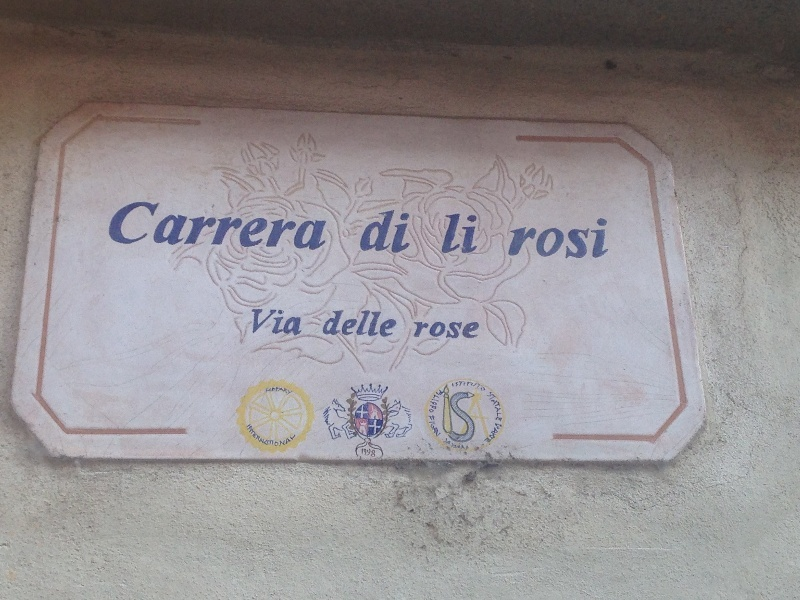text: (449, 384, 464, 443), (465, 384, 480, 443), (113, 201, 128, 252), (129, 201, 144, 252), (145, 201, 160, 252), (161, 201, 176, 252), (177, 201, 192, 252), (193, 201, 208, 252), (209, 201, 224, 252), (225, 201, 240, 252), (241, 201, 256, 252), (257, 201, 272, 252), (273, 201, 288, 252), (289, 201, 304, 252), (305, 201, 320, 252), (369, 210, 384, 257), (385, 210, 400, 257), (450, 393, 464, 442), (481, 384, 492, 443), (513, 218, 528, 260), (529, 218, 544, 260), (545, 218, 560, 260), (561, 218, 576, 260), (577, 218, 592, 260), (593, 218, 608, 260), (449, 215, 464, 256), (401, 210, 413, 257), (465, 215, 478, 256), (465, 393, 475, 442), (337, 309, 352, 340), (353, 309, 368, 340), (369, 309, 384, 340), (257, 309, 272, 339), (273, 309, 288, 339), (385, 309, 399, 340), (321, 201, 329, 252), (289, 309, 302, 339), (257, 424, 272, 450), (273, 424, 288, 450), (497, 389, 508, 424), (465, 321, 481, 342), (433, 387, 445, 415), (435, 415, 448, 440), (417, 321, 432, 342), (433, 321, 448, 342), (449, 321, 464, 342), (449, 437, 464, 458), (289, 424, 301, 450), (443, 384, 448, 443), (245, 424, 256, 450), (484, 423, 496, 445), (329, 309, 336, 340), (497, 423, 505, 445), (609, 218, 613, 260), (426, 387, 432, 415), (465, 381, 480, 392), (251, 309, 256, 339), (451, 381, 464, 392), (273, 387, 288, 396), (465, 437, 469, 458), (446, 215, 448, 256), (361, 449, 368, 459), (369, 449, 376, 459), (494, 389, 496, 424), (481, 381, 486, 392), (266, 387, 272, 396), (289, 387, 294, 396), (511, 218, 512, 260), (414, 321, 416, 342), (446, 437, 448, 458)
